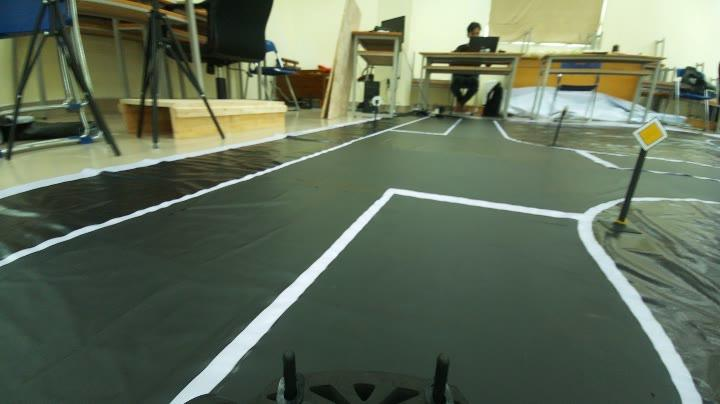priority: (626, 112, 672, 156)
